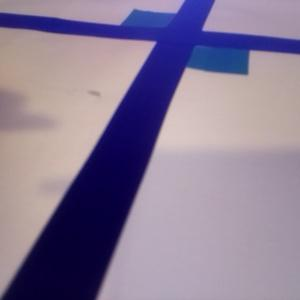bottom_right: (157, 36, 249, 74)
top_left: (119, 8, 201, 38)
